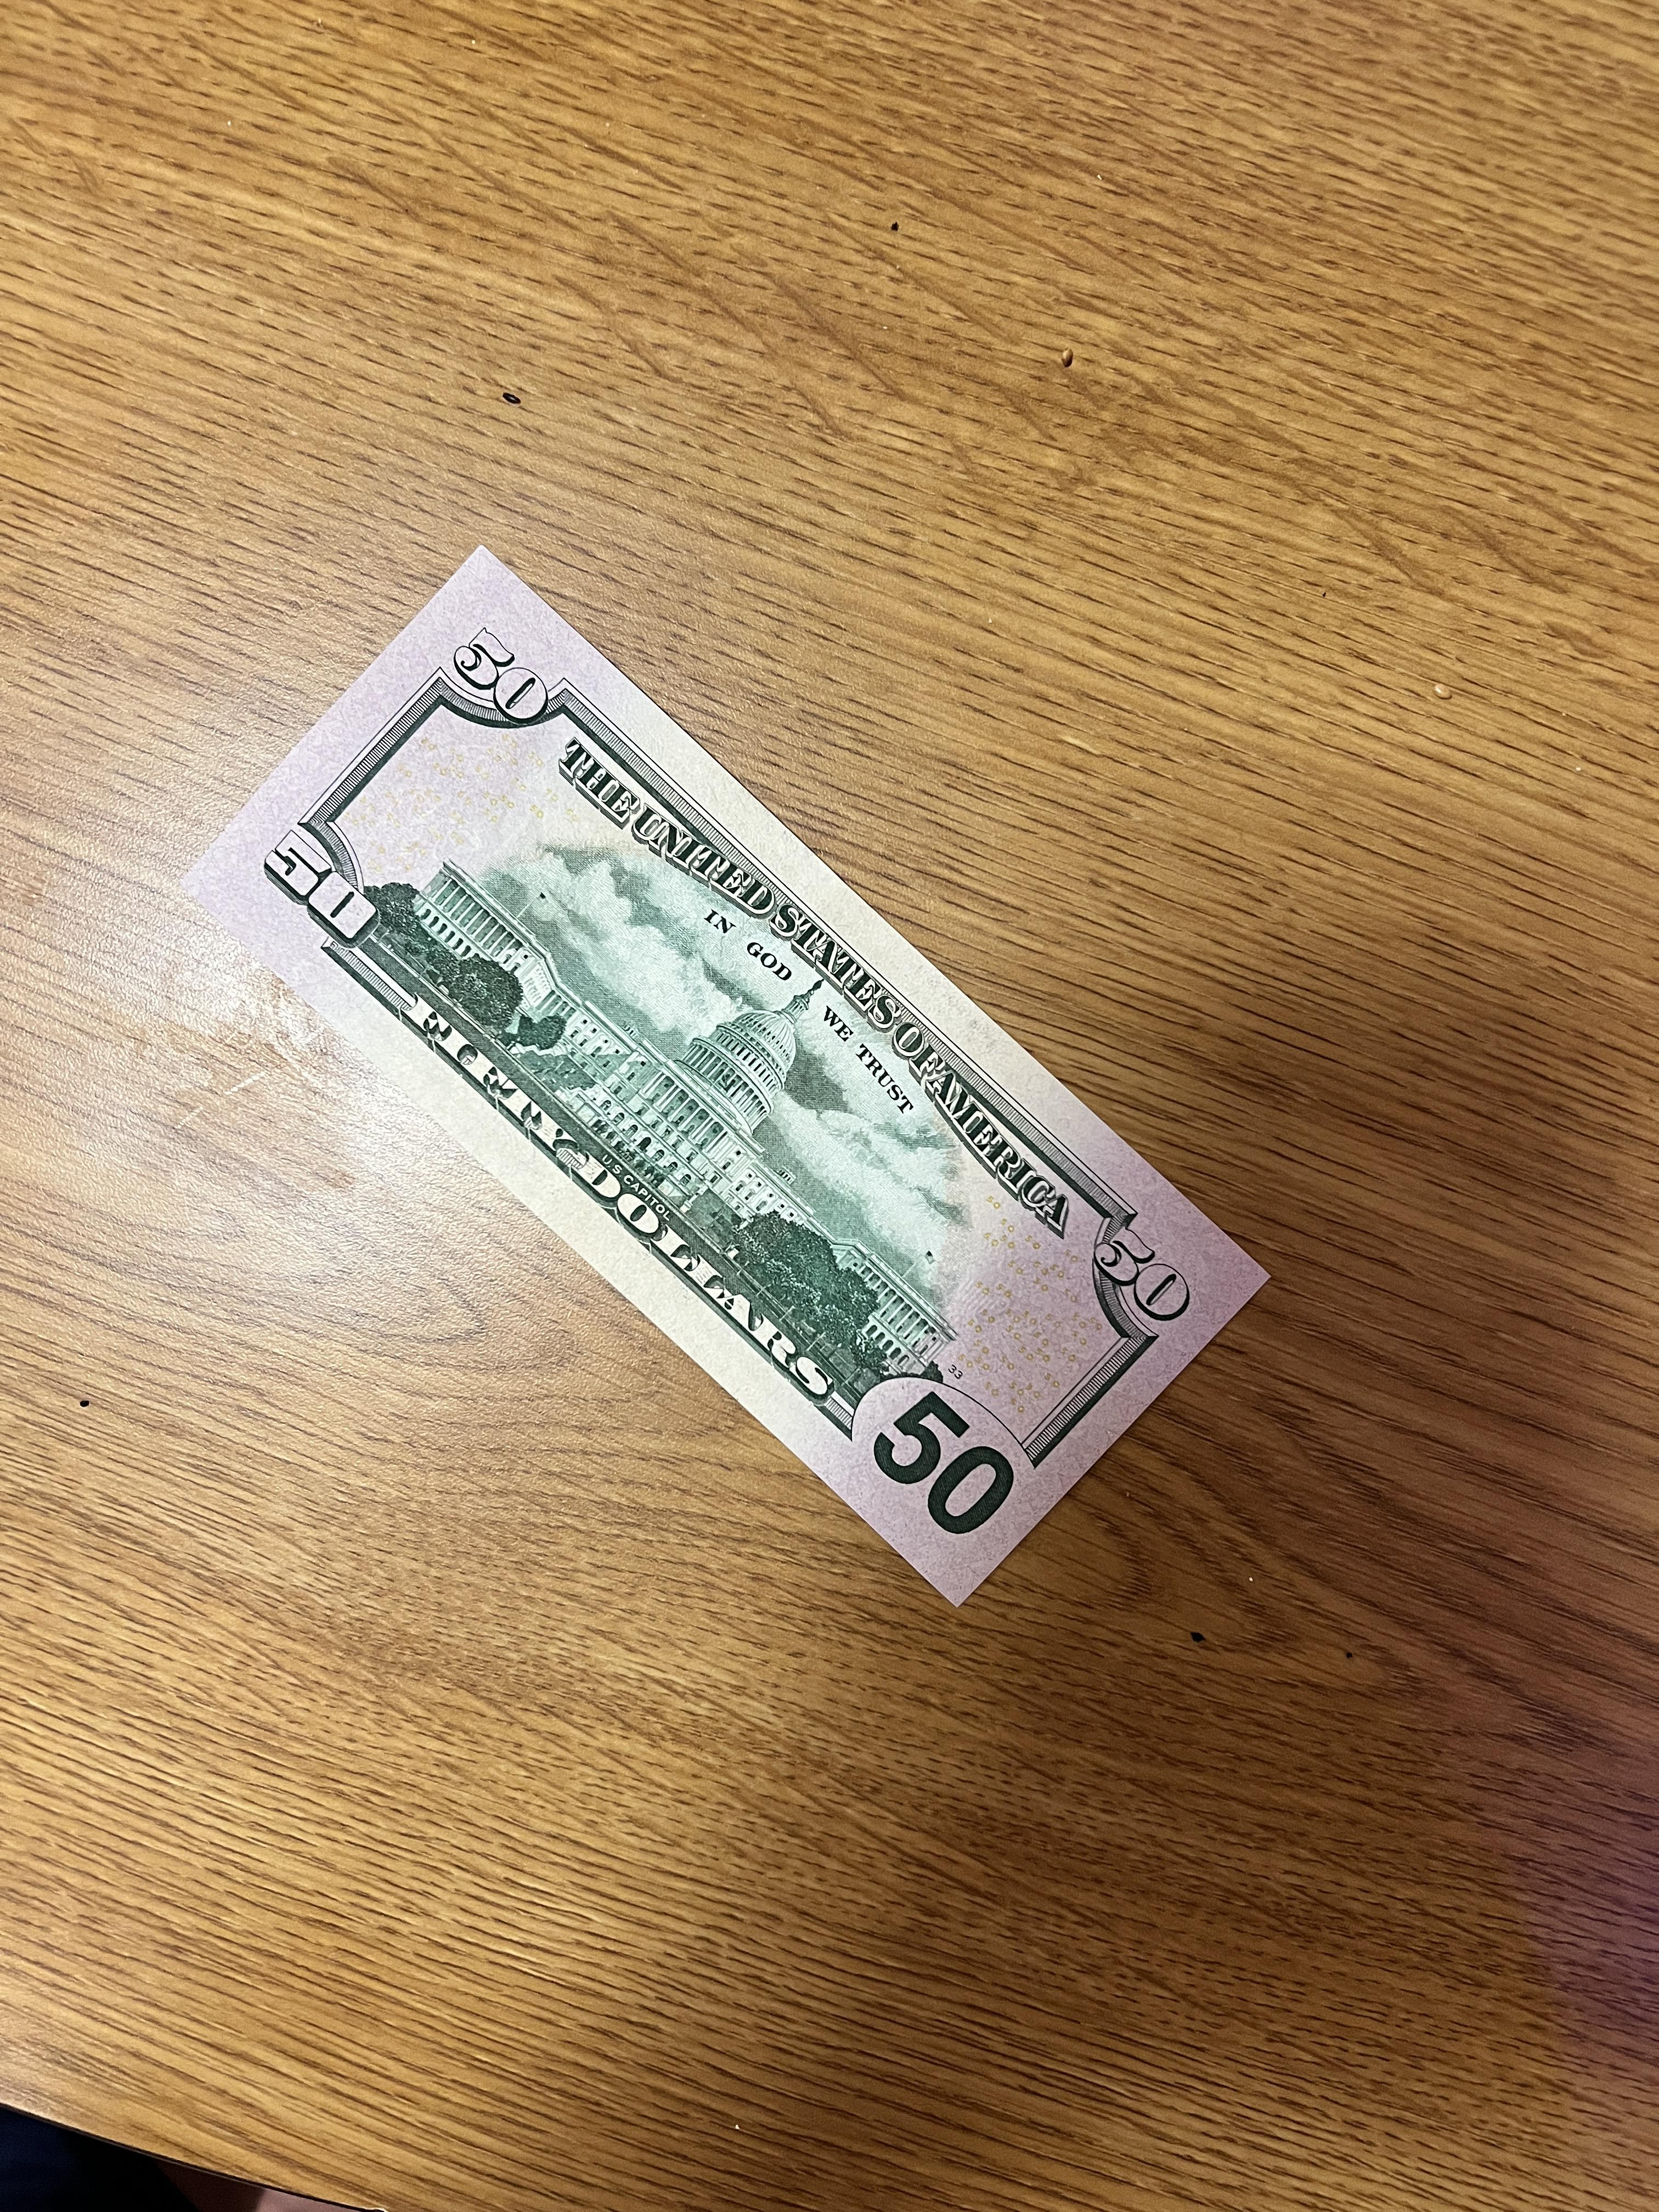FiftyBill: (181, 538, 1270, 1620)
